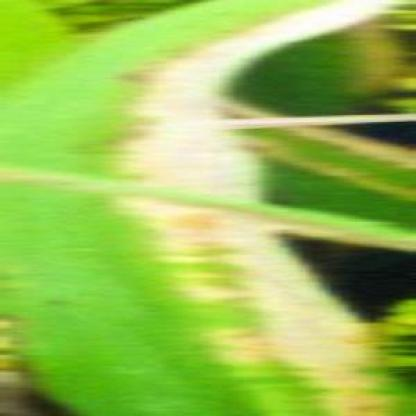Blight: (2, 2, 403, 416)
